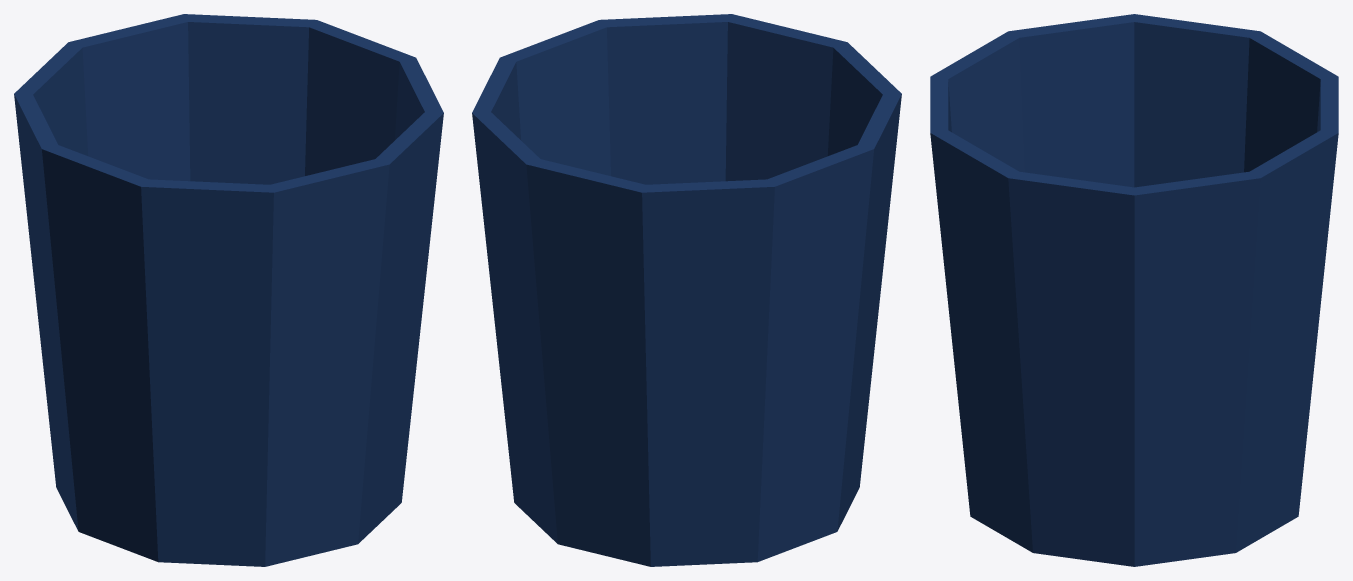
Rendered from BIN.fbx.
The picture shows the model from 3 angles, left to right: view 1: azimuth 30°, elevation 25°; view 2: azimuth 150°, elevation 25°; view 3: azimuth 270°, elevation 25°; orthographic projection.
Visible parts, largest first — view 1: pCylinder1; view 2: pCylinder1; view 3: pCylinder1.
Part boxes in pixels (x1,y1,x2,y2): pCylinder1: (14, 14, 443, 566); pCylinder1: (472, 14, 901, 566); pCylinder1: (930, 14, 1338, 566).
Size of the model in its own units: 26.15 by 26.15 by 24.87.
